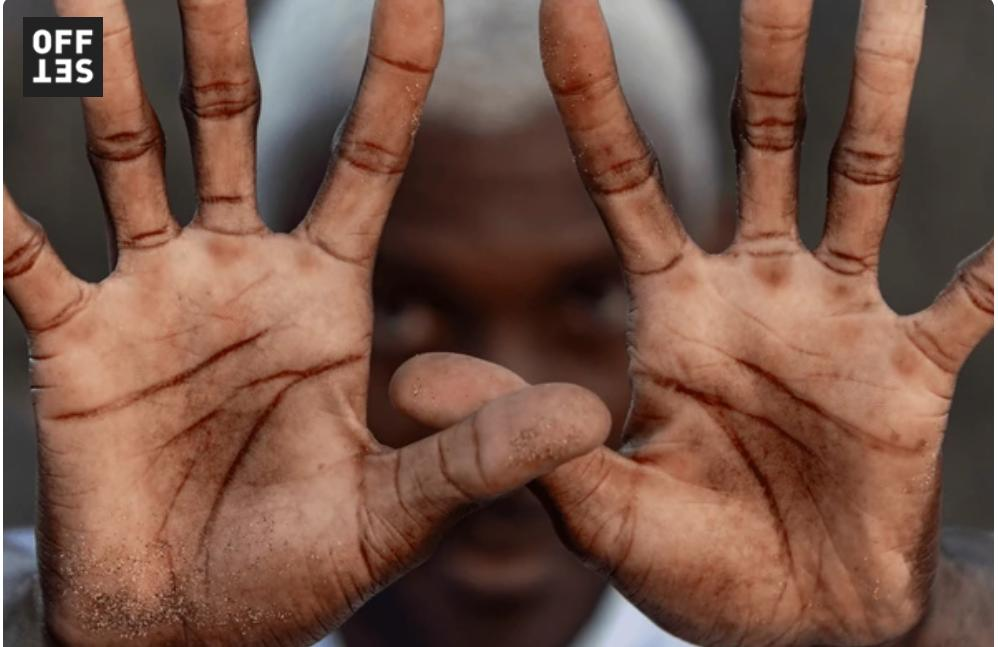family ring: (355, 449, 385, 589), (619, 462, 642, 568)
fate line: (159, 349, 223, 641)
girdle of venus: (102, 267, 265, 353), (710, 277, 828, 355), (810, 369, 899, 389)
head line: (634, 365, 886, 521), (134, 352, 362, 452)
heart line: (662, 306, 922, 453), (45, 327, 280, 420)
life line: (627, 364, 802, 634), (198, 354, 355, 594)
